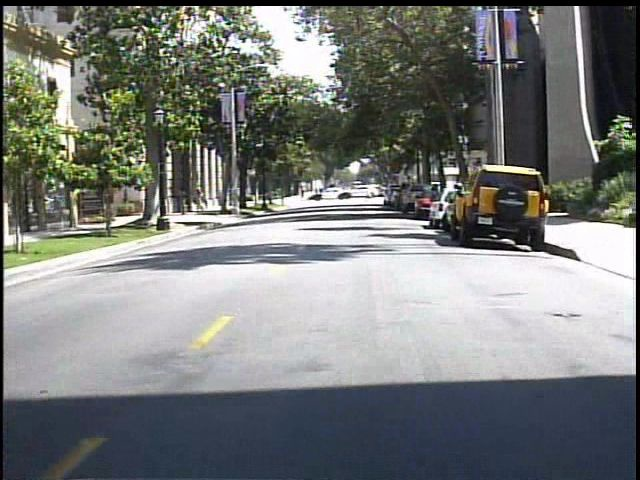person: (195, 187, 215, 219), (174, 185, 191, 219)
